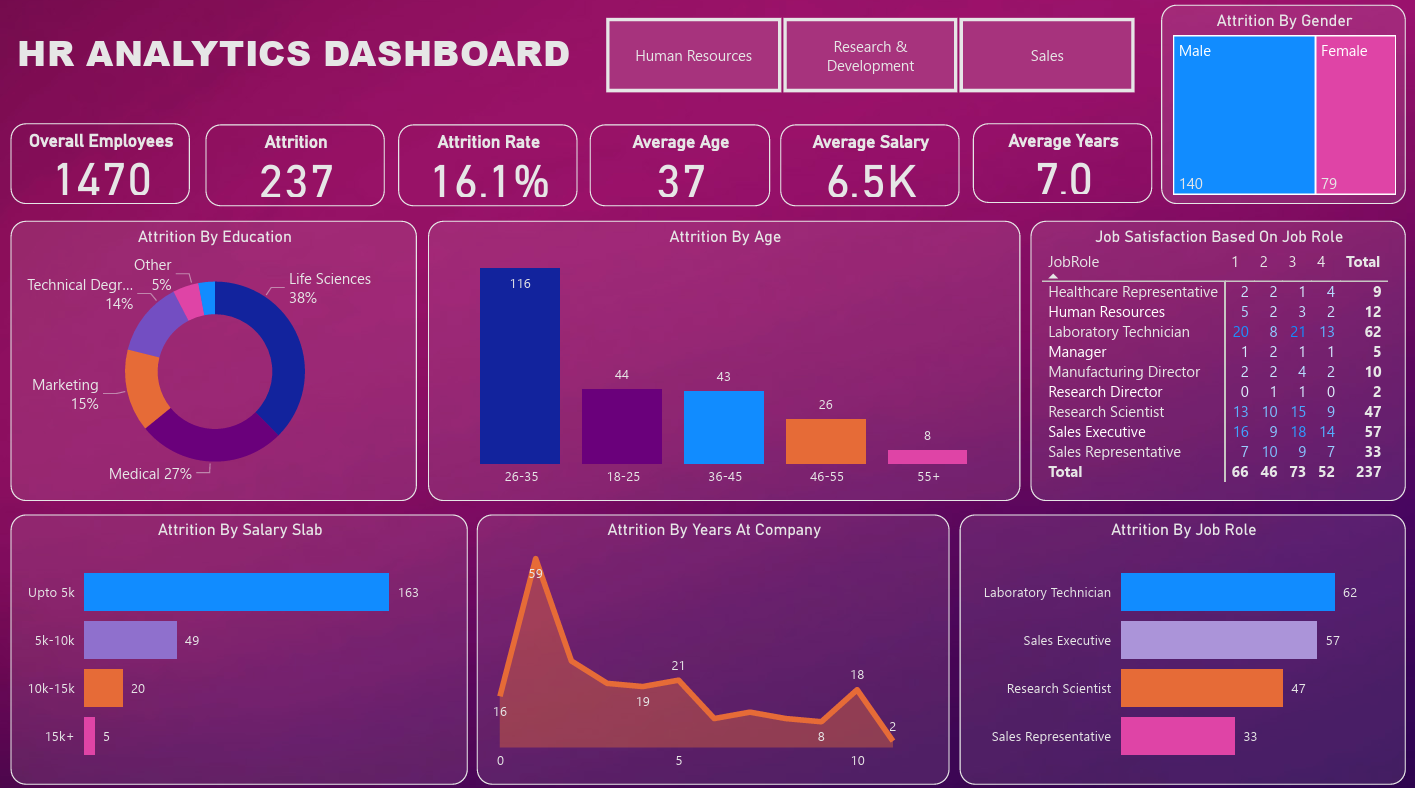

The dashboard page shown, as its layout file describes it:
{"tool":"powerbi","page":{"name":"Page 1","canvas":[1280,720],"ordinal":0},"visuals":[{"type":"card","title":"Overall Employees","fields":{"Values":["CountNonNull(HR_Analytics.EmpID)"]},"box":[11.1,116.7,162.1,73],"z":0},{"type":"card","title":"Average Age","fields":{"Values":["Avg(HR_Analytics.Age)"]},"box":[534.4,117.9,162.1,73.7],"z":1000},{"type":"card","title":"Attrition Rate","fields":{"Values":["HR_Analytics.AttritionRate"]},"box":[361.2,117.9,162.1,73.7],"z":2000},{"type":"card","title":"Attrition","fields":{"Values":["Sum(HR_Analytics.AttritionCount)"]},"box":[186.7,117.9,162.1,73.7],"z":3000},{"type":"card","title":"Average Years","fields":{"Values":["Avg(HR_Analytics.YearsAtCompany)"]},"box":[879.5,116.7,162.1,72.5],"z":4000},{"type":"card","title":"Average Salary","fields":{"Values":["Avg(HR_Analytics.MonthlyIncome)"]},"box":[706.3,117.9,162.1,73.7],"z":5000},{"type":"donutChart","title":"Attrition By Education","fields":{"Category":["HR_Analytics.EducationField"],"Y":["Sum(HR_Analytics.AttritionCount)"]},"box":[11.1,205.1,367.3,253.1],"z":6000},{"type":"columnChart","title":"Attrition By Age","fields":{"Category":["HR_Analytics.AgeGroup"],"Y":["Sum(HR_Analytics.AttritionCount)"]},"box":[388.2,205.1,534.4,253.1],"z":7000},{"type":"pivotTable","title":"Job Satisfaction Based On Job Role","fields":{"Rows":["HR_Analytics.JobRole"],"Columns":["HR_Analytics.JobSatisfaction"],"Values":["Sum(HR_Analytics.AttritionCount)"]},"box":[932.4,205.1,339,253.1],"z":8000},{"type":"barChart","title":"Attrition By Salary Slab","fields":{"Category":["HR_Analytics.SalarySlab"],"Y":["Sum(HR_Analytics.AttritionCount)"]},"box":[11.1,470.5,412.7,243.2],"z":9000},{"type":"barChart","title":"Attrition By Job Role","fields":{"Y":["Sum(HR_Analytics.AttritionCount)"],"Category":["HR_Analytics.JobRole"]},"box":[868.5,470.5,402.9,243.2],"z":10000},{"type":"areaChart","title":"Attrition By Years At Company","fields":{"Category":["HR_Analytics.YearsAtCompany"],"Y":["Sum(HR_Analytics.AttritionCount)"]},"box":[432.4,470.5,426.3,243.2],"z":11000},{"type":"treemap","title":"Attrition By Gender","fields":{"Group":["HR_Analytics.Gender"],"Values":["Sum(HR_Analytics.AttritionCount)"]},"box":[1050.3,9.8,221.1,180.6],"z":12000},{"type":"slicer","fields":{"Values":["HR_Analytics.Department"]},"box":[534.3,9.5,516.5,91.6],"z":13000},{"type":"textbox","box":[10.7,25,523.6,63.1],"z":14000}]}

Visuals, with their boxes in screenshot pixels (x1, y1, x2, y2), scaled from the page's 1280x720 canvas onto the 1415x788 screenshot:
"Overall Employees" card: Rect(12, 128, 191, 208)
"Average Age" card: Rect(591, 129, 770, 210)
"Attrition Rate" card: Rect(399, 129, 578, 210)
"Attrition" card: Rect(206, 129, 386, 210)
"Average Years" card: Rect(972, 128, 1151, 207)
"Average Salary" card: Rect(781, 129, 960, 210)
"Attrition By Education" donutChart: Rect(12, 224, 418, 501)
"Attrition By Age" columnChart: Rect(429, 224, 1020, 501)
"Job Satisfaction Based On Job Role" pivotTable: Rect(1031, 224, 1405, 501)
"Attrition By Salary Slab" barChart: Rect(12, 515, 468, 781)
"Attrition By Job Role" barChart: Rect(960, 515, 1405, 781)
"Attrition By Years At Company" areaChart: Rect(478, 515, 949, 781)
"Attrition By Gender" treemap: Rect(1161, 11, 1405, 208)
slicer - HR_Analytics.Department: Rect(591, 10, 1162, 111)
textbox: Rect(12, 27, 591, 96)
